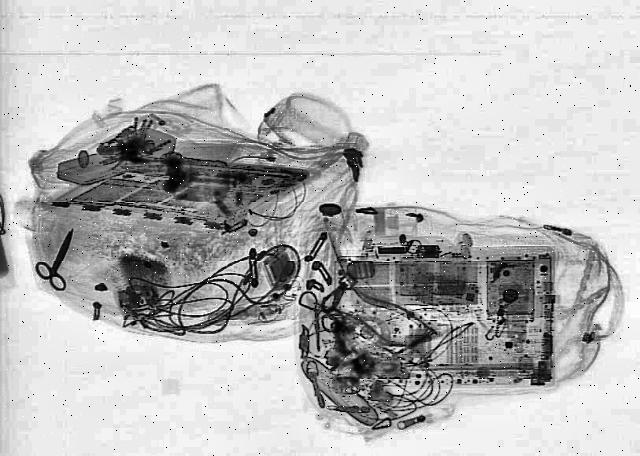Scissors: (25, 224, 93, 292)
